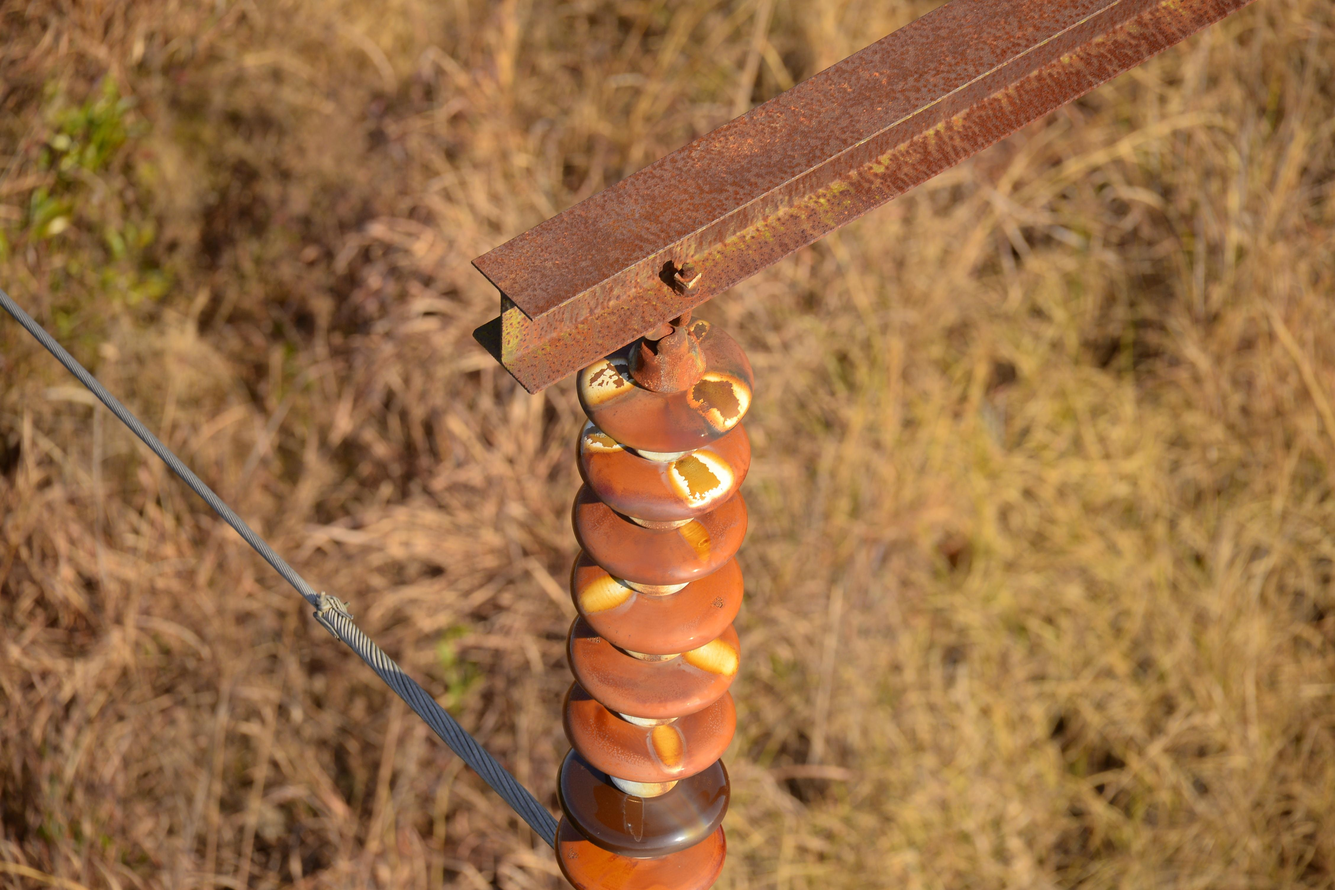Flashover: (672, 447, 735, 507), (579, 348, 641, 407), (694, 368, 751, 431), (644, 714, 697, 776), (576, 573, 639, 615), (617, 787, 660, 844), (677, 517, 718, 564), (688, 636, 735, 677), (579, 421, 628, 454)
insulator: (548, 333, 753, 890)
